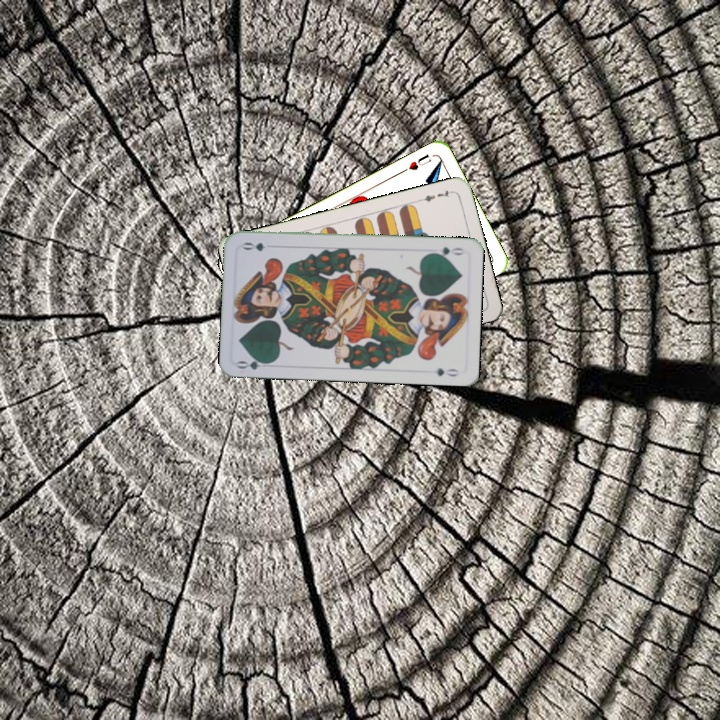E7: (415, 186, 455, 204)
GO: (234, 354, 274, 372), (427, 243, 467, 260)
HU: (398, 150, 434, 175)
